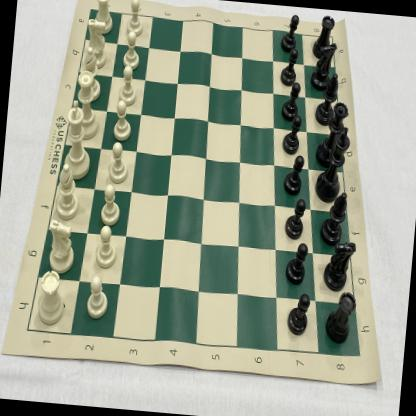bishop: (52, 160, 82, 219), (320, 192, 349, 245), (314, 72, 340, 127), (78, 47, 104, 102)
king: (315, 125, 354, 204), (60, 99, 96, 181)
knight: (44, 216, 78, 275), (84, 18, 111, 68)
pawn: (90, 224, 119, 270), (82, 274, 111, 320), (286, 289, 312, 339), (104, 140, 130, 186), (108, 99, 134, 142), (96, 184, 122, 226), (280, 111, 303, 156), (284, 193, 306, 240), (286, 240, 308, 286), (116, 64, 139, 106), (284, 152, 305, 196), (119, 30, 142, 70), (280, 80, 302, 121), (278, 46, 300, 86), (122, 0, 146, 36), (280, 14, 300, 54)
queen: (70, 70, 104, 140), (320, 100, 350, 162)
rook: (322, 290, 358, 346), (34, 266, 67, 327), (323, 237, 356, 293), (310, 40, 337, 90), (312, 14, 336, 60), (91, 0, 117, 36)
